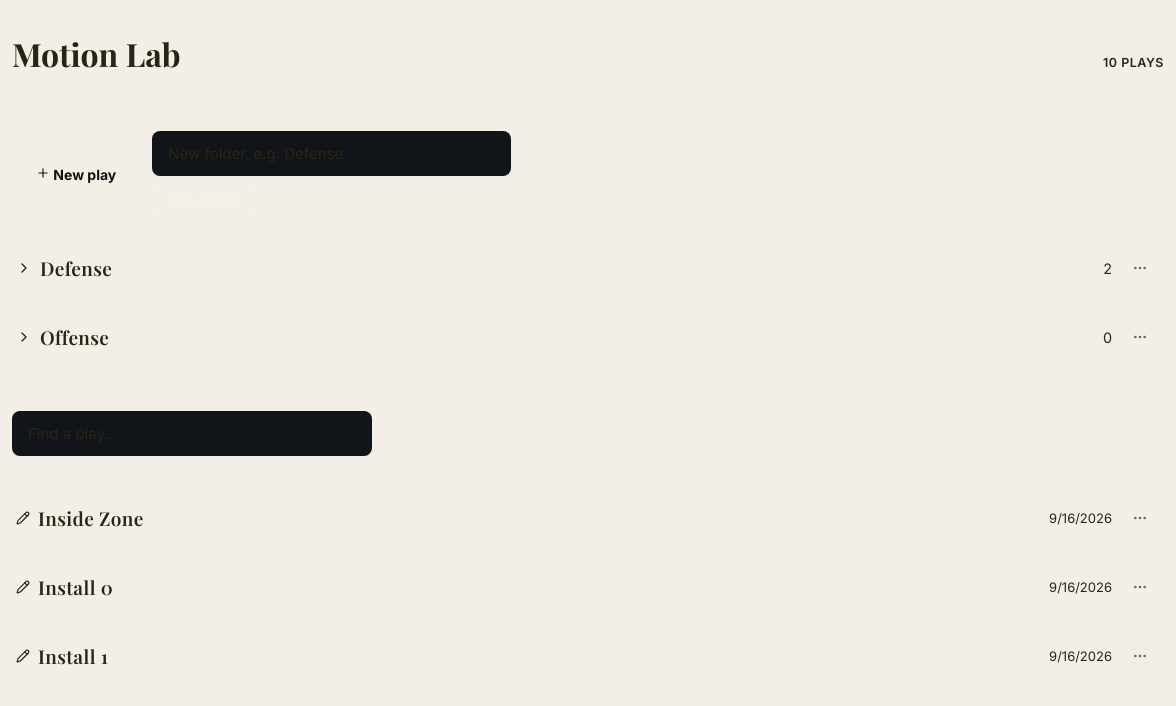
Scenario: Find a play › a long library finds a play by name in every folder, and says where it lives
The width and height of the screenshot is (1176, 706).
In the search field labelled "Find a play": (192, 434) [12,411,372,456], type "cover 3"
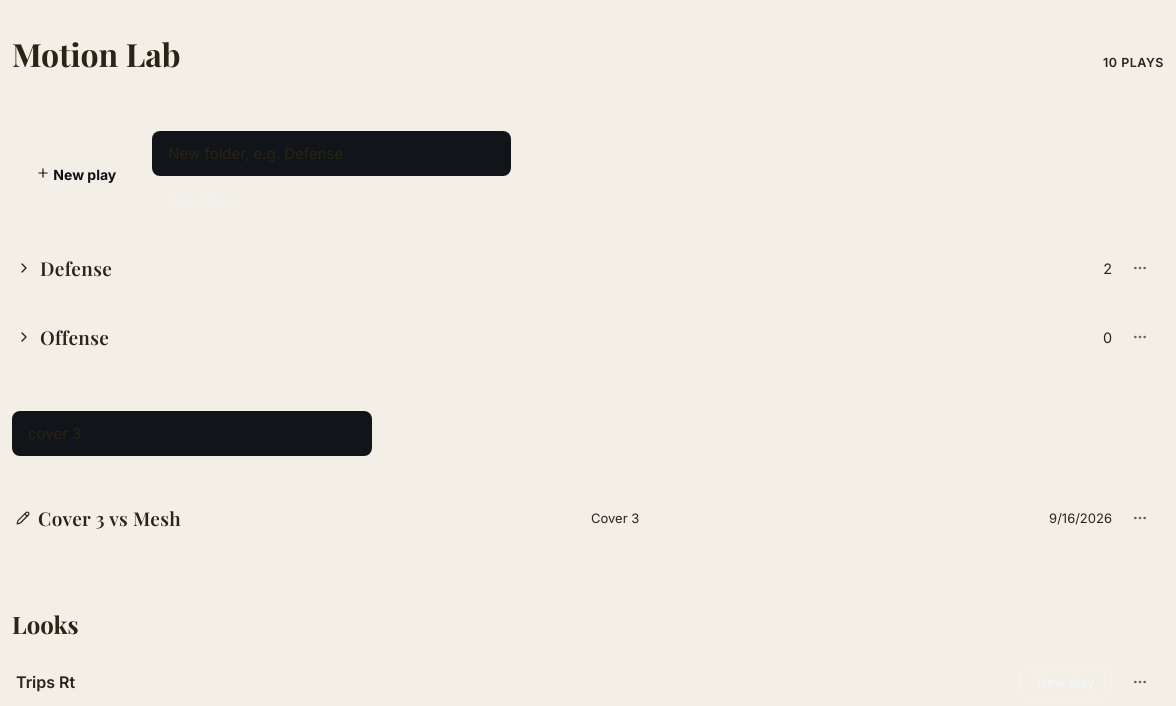
Check: the text "Cover 3 vs Mesh" in the row of "Cover 3" is shown, box [38,505,181,531]
Check: the text "Cover 3" is shown, box [591,510,639,526]
Replace the text in the search field named "Find a play" with "zzz": (192, 434) [12,411,372,456]
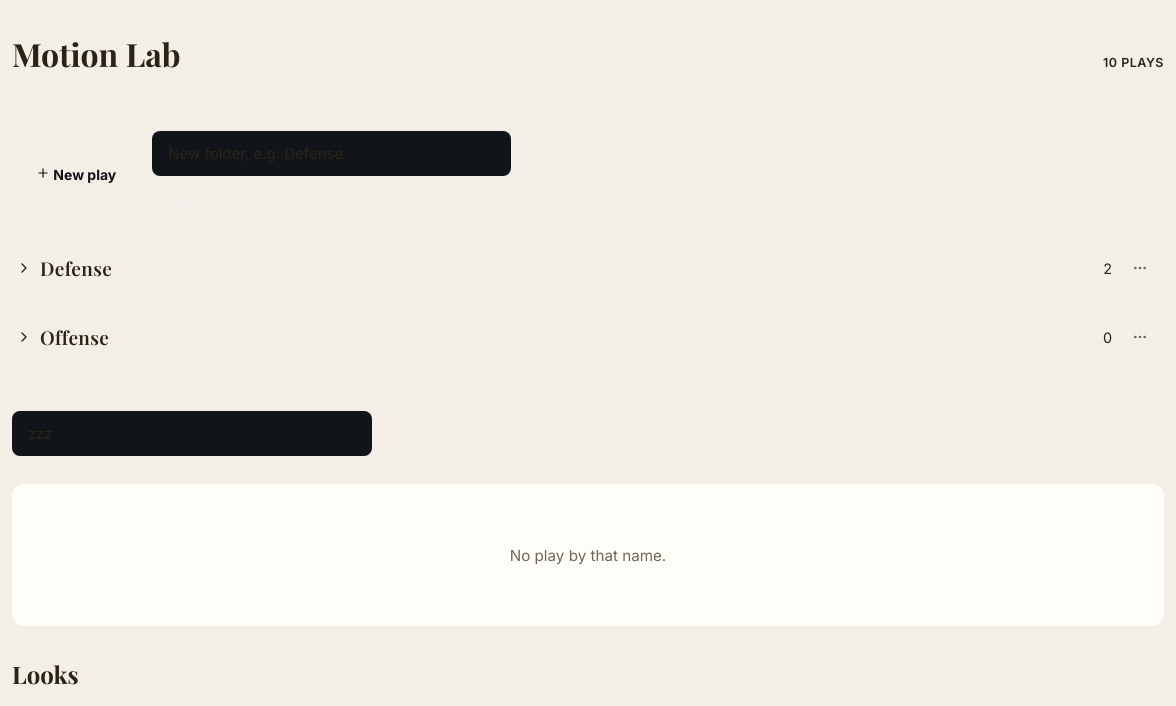
Check: the text "No play by that name." is shown, box [510,546,666,565]
